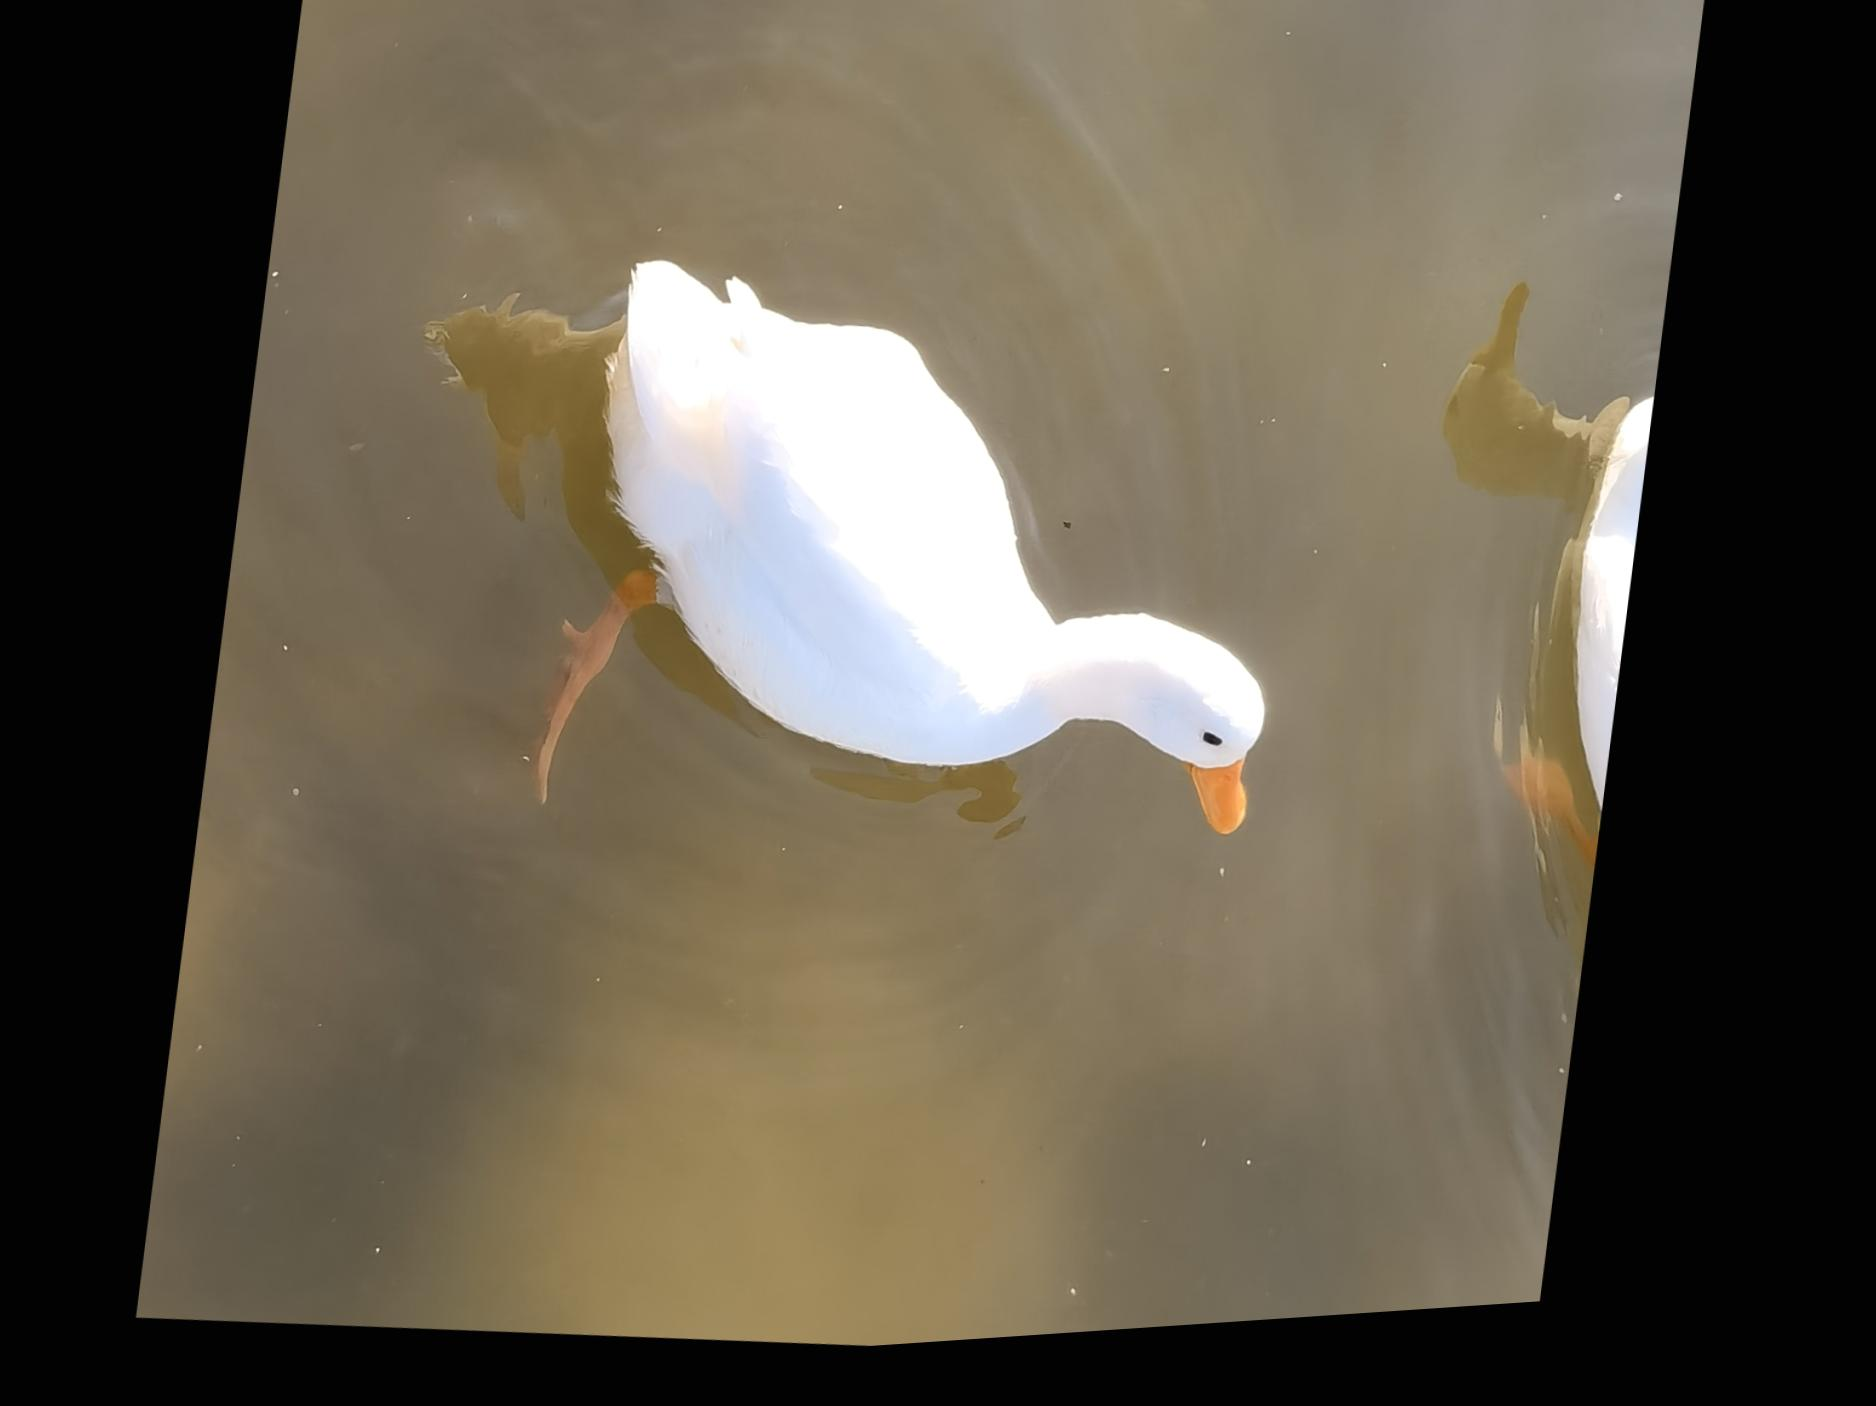duck: (505, 238, 1332, 902)
